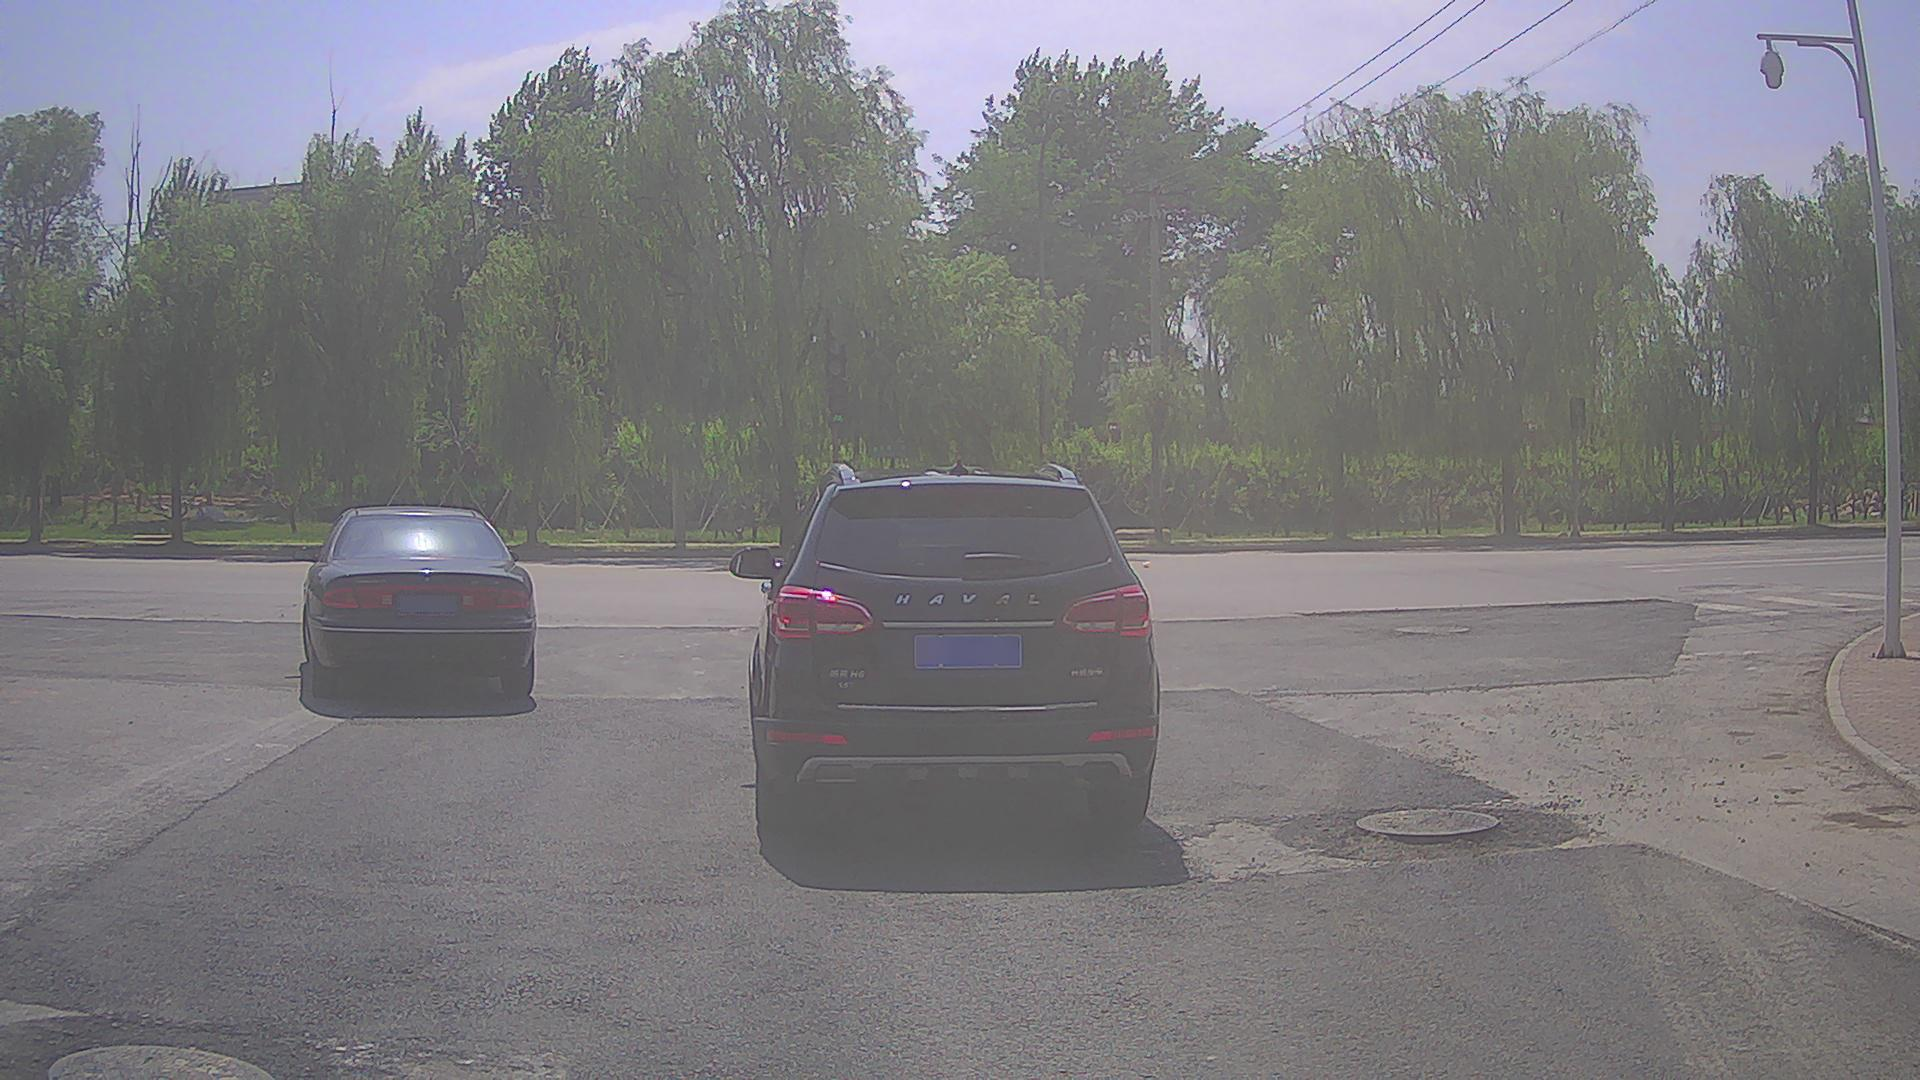car: (728, 462, 1160, 840), (291, 505, 537, 702)
